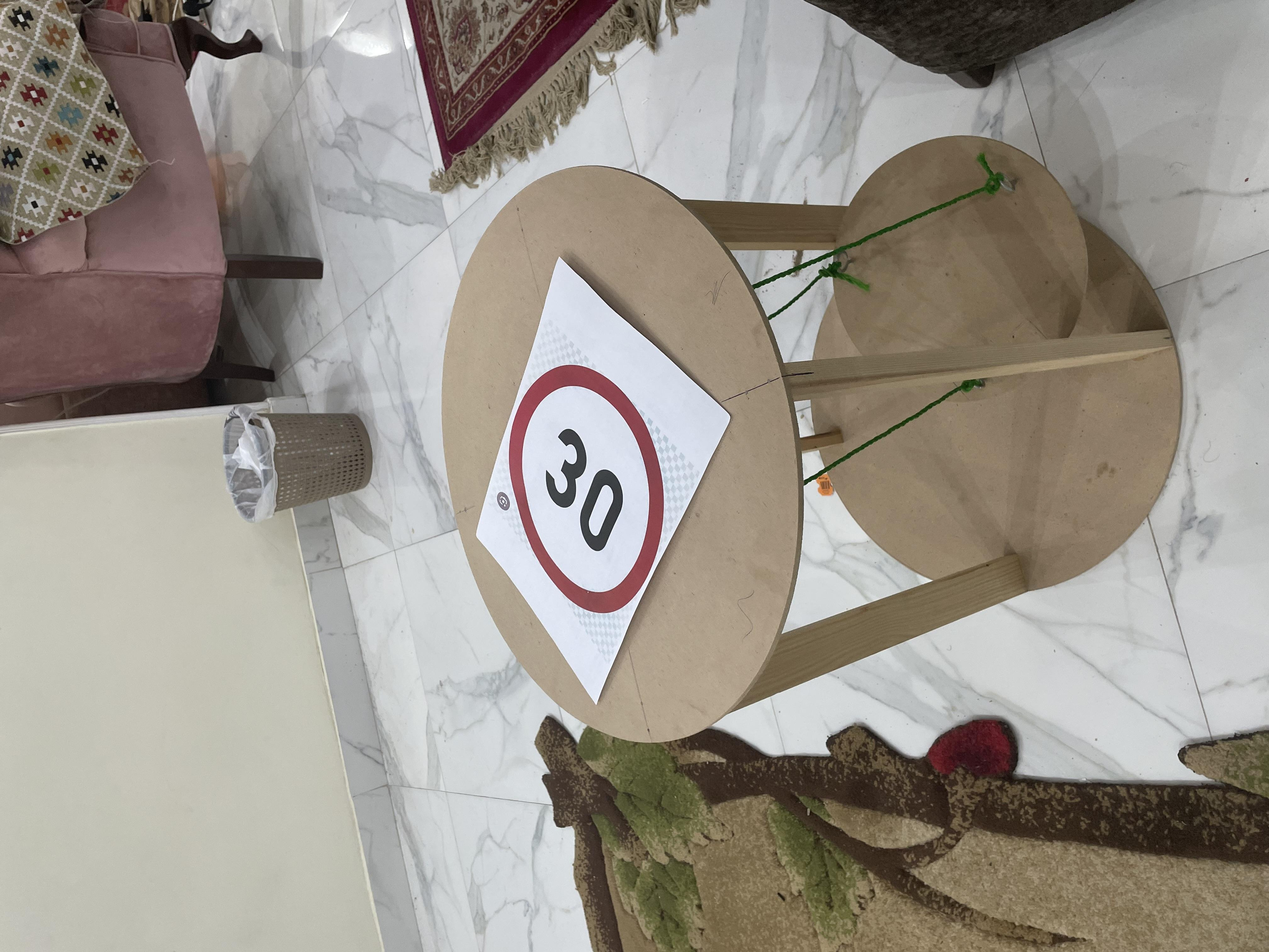30-speed: (441, 381, 804, 504)
